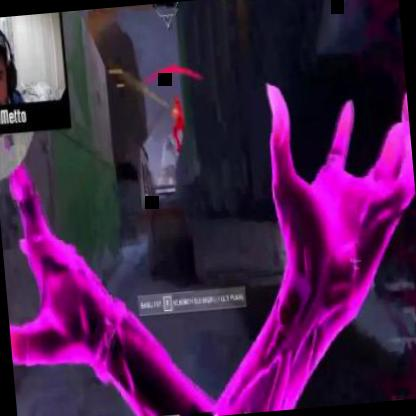enemy: (170, 96, 188, 152)
enemy_head: (173, 96, 180, 106)
